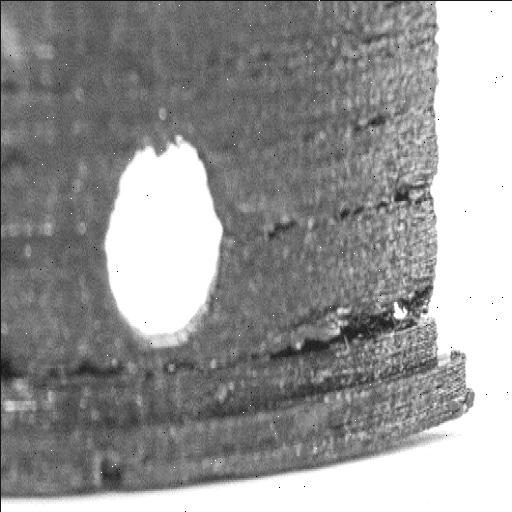cracks: (295, 278, 451, 378), (309, 161, 441, 255)
